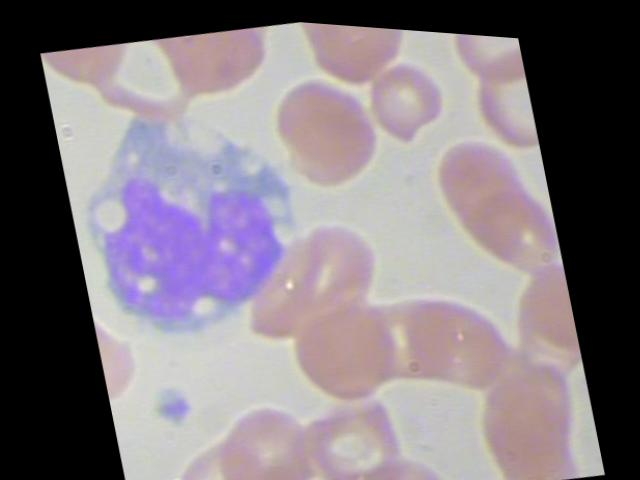Platelets: (145, 379, 200, 433)
Red Blood Cells: (283, 278, 411, 412), (467, 352, 589, 479), (260, 58, 376, 175), (209, 388, 332, 479), (428, 117, 528, 225), (175, 15, 286, 106), (360, 40, 455, 144), (173, 15, 284, 104), (298, 17, 414, 94), (464, 50, 539, 153), (40, 33, 147, 98), (161, 428, 271, 479), (441, 26, 526, 88), (342, 437, 450, 479)
White Blood Cells: (67, 78, 315, 361)
